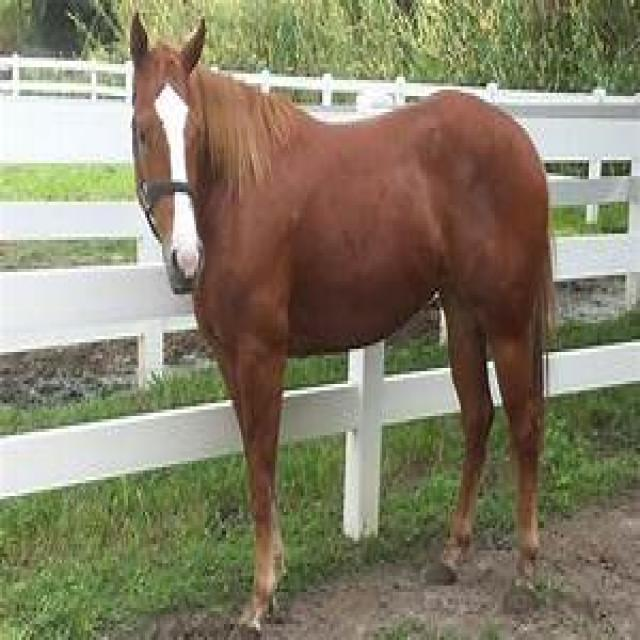horse: (128, 16, 559, 634)
